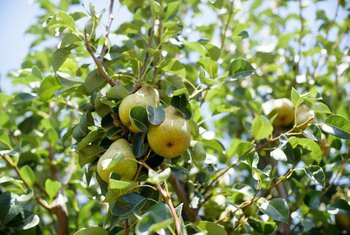pear: (148, 105, 190, 157), (97, 139, 138, 182), (120, 87, 159, 131), (259, 98, 295, 128)
